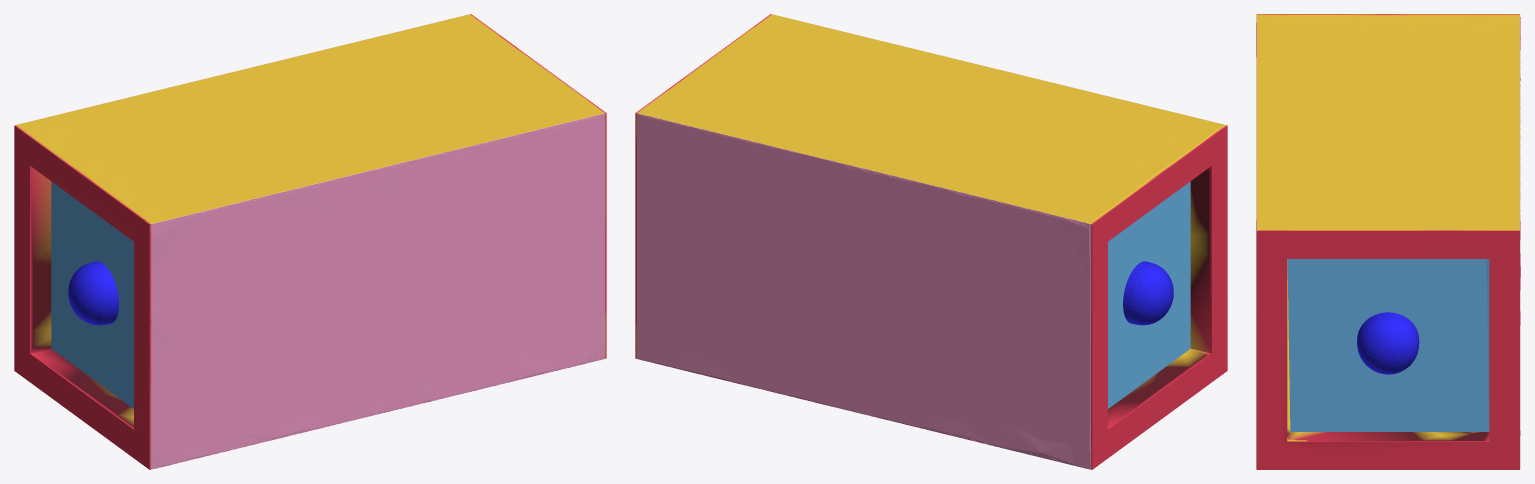
Rendered from GEO_Stock_03_LOD1.glb.
3 views of the same model, side by side, from view 1: azimuth 30°, elevation 25°; view 2: azimuth 150°, elevation 25°; view 3: azimuth 270°, elevation 25° (orthographic). The views are drawn at different scales.
Visible parts, largest first — view 1: Box 1, Box, Box 2, Cylinder; view 2: Box 1, Box, Box 2, Cylinder; view 3: Box 1, Box 2, Box, Cylinder.
Boxes of the visible parts, x1=… form: Box 1: x1=16, y1=14, x2=604, y2=469; Box: x1=14, y1=14, x2=606, y2=469; Box 2: x1=51, y1=181, x2=133, y2=408; Cylinder: x1=68, y1=261, x2=118, y2=325; Box 1: x1=637, y1=14, x2=1225, y2=469; Box: x1=635, y1=14, x2=1227, y2=469; Box 2: x1=1108, y1=181, x2=1190, y2=408; Cylinder: x1=1123, y1=261, x2=1173, y2=325; Box 1: x1=1256, y1=14, x2=1520, y2=468; Box 2: x1=1287, y1=259, x2=1489, y2=431; Box: x1=1256, y1=14, x2=1519, y2=469; Cylinder: x1=1357, y1=312, x2=1419, y2=374.
Size of the model in its own units: 2.04 by 1 by 1.01.
